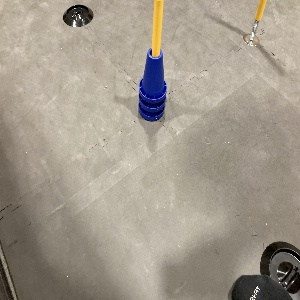Blue_3: (136, 47, 166, 120)
